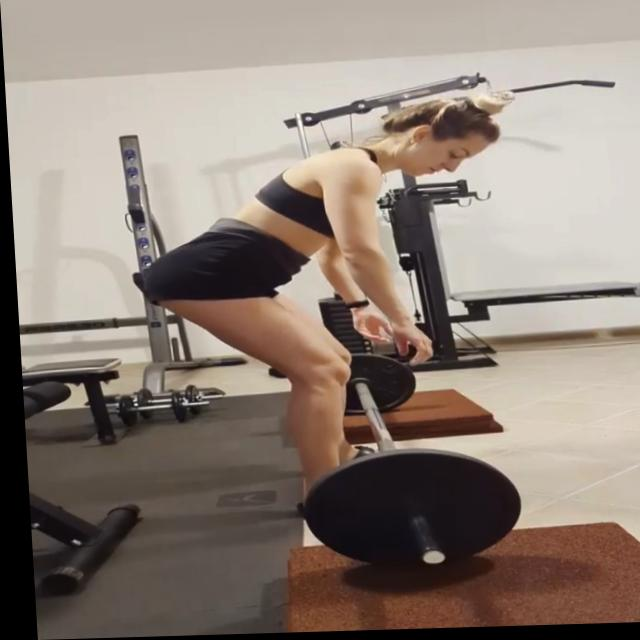barbell: (289, 446, 528, 588)
